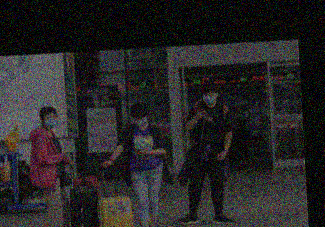with_mask: (43, 111, 58, 130), (201, 91, 217, 106), (132, 113, 146, 128)
